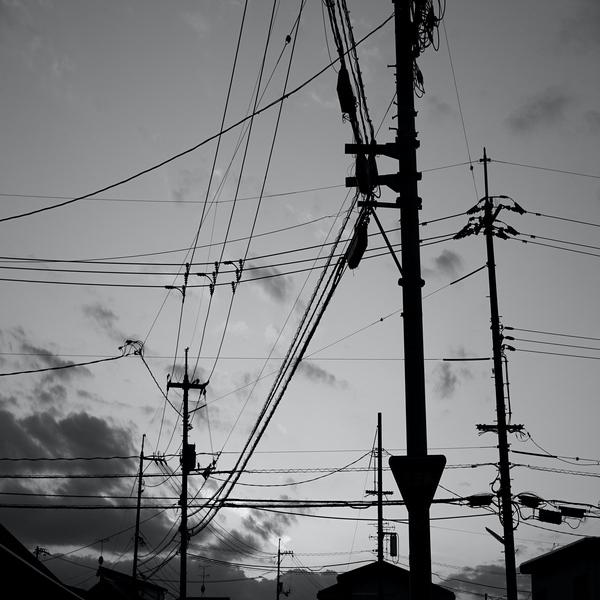utility_pole: (449, 140, 531, 277), (161, 341, 210, 428), (127, 427, 167, 488)
